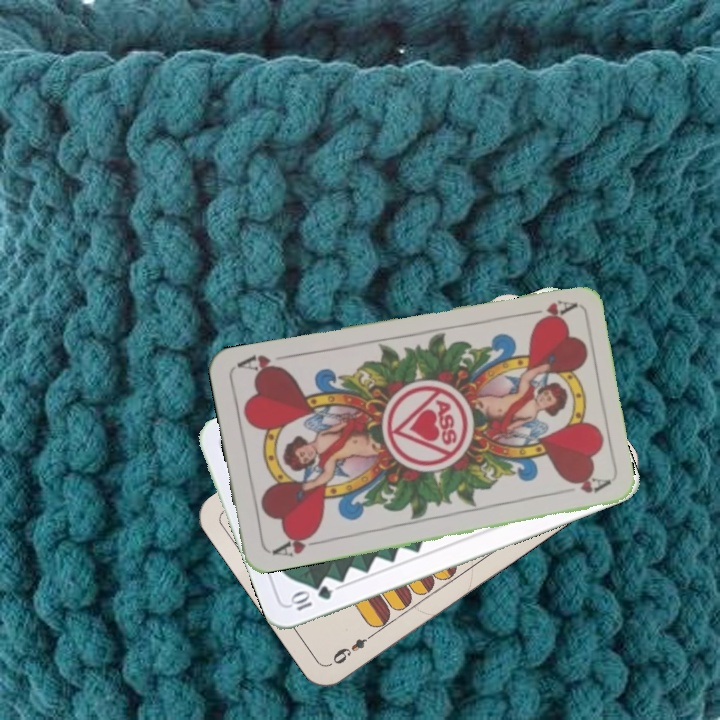E9: (326, 628, 378, 668)
G10: (286, 581, 335, 614)
HA: (268, 527, 325, 560), (518, 296, 577, 326)
